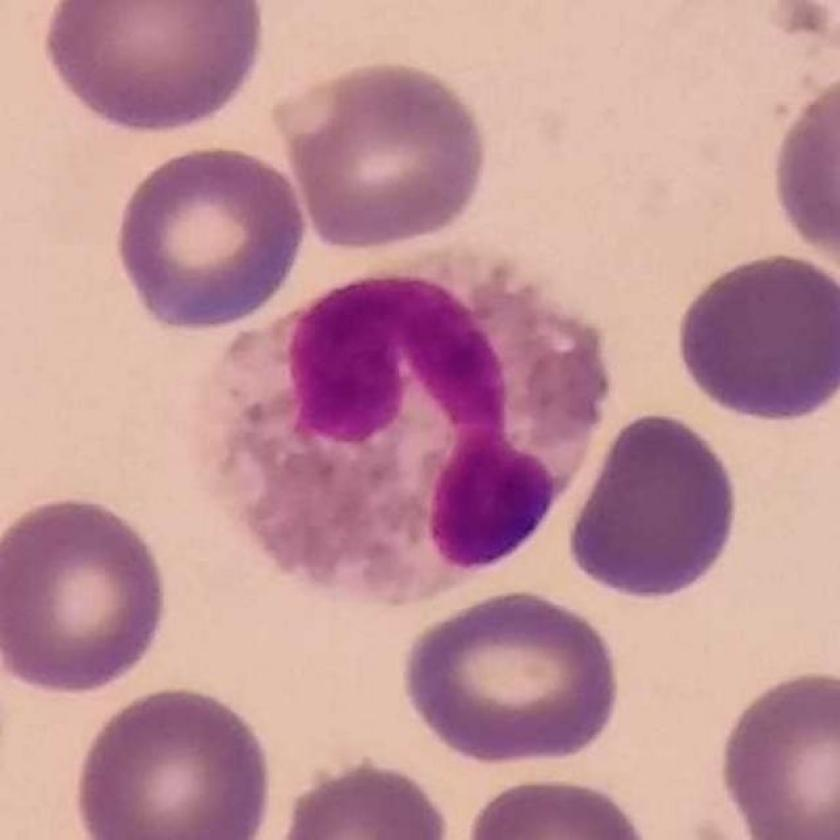eosinophil: (192, 238, 616, 608)
